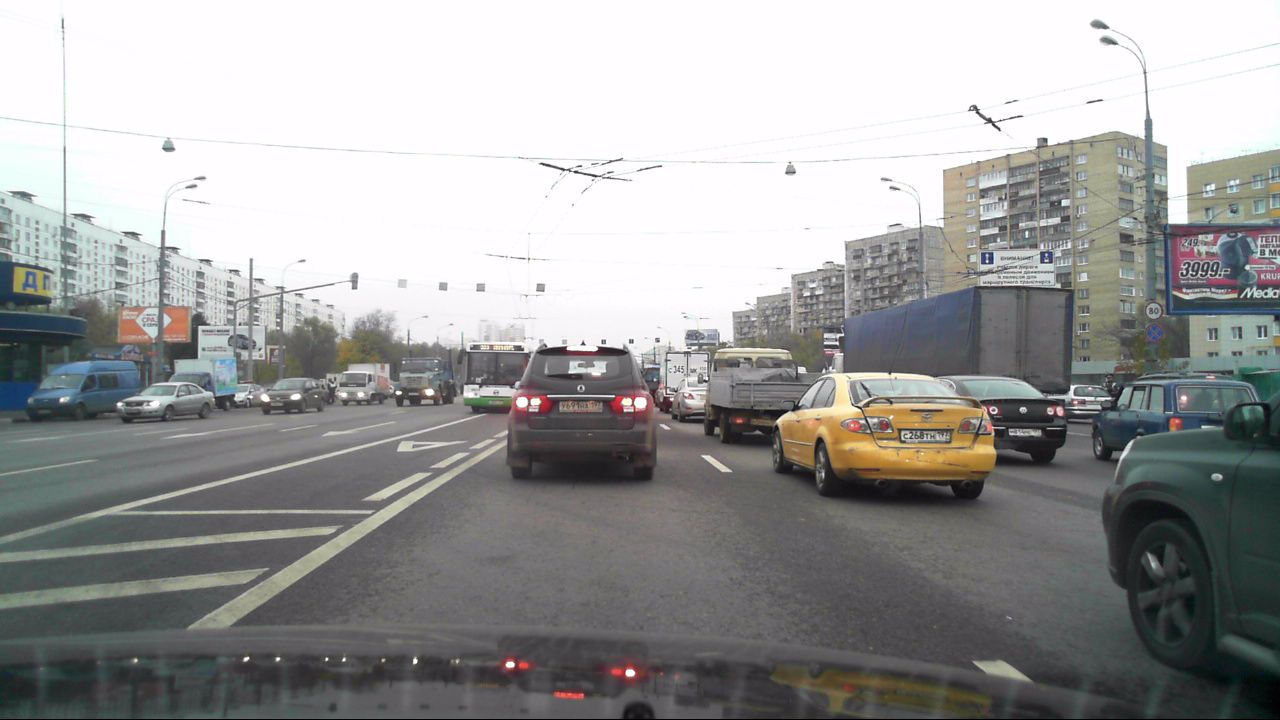No Parking: (1144, 324, 1161, 342)
